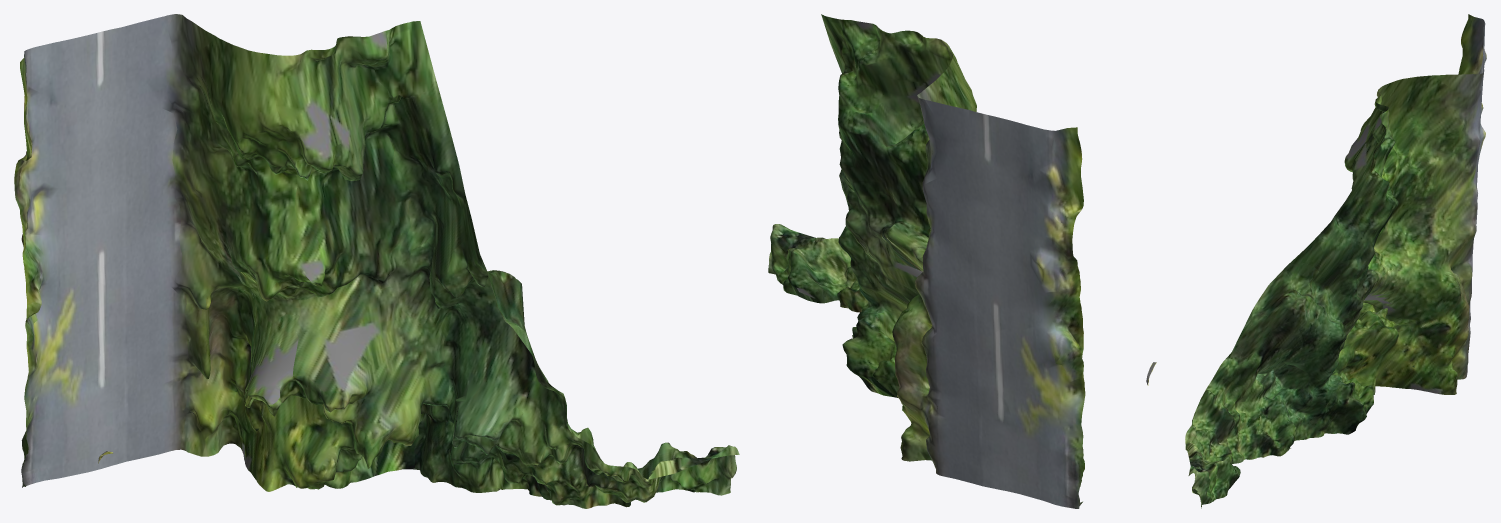
The model's file is Tile_+012_+032.fbx.
3 renders of one model, left to right at view 1: azimuth 30°, elevation 25°; view 2: azimuth 150°, elevation 25°; view 3: azimuth 270°, elevation 25°, orthographic. The views are drawn at different scales.
Visible parts, largest first — view 1: DefaultName; view 2: DefaultName; view 3: DefaultName.
Boxes of the visible parts, x1=… form: DefaultName: x1=14, y1=14, x2=739, y2=508; DefaultName: x1=768, y1=14, x2=1156, y2=508; DefaultName: x1=1185, y1=14, x2=1486, y2=508.
Size of the model in its own units: 22.54 by 17.37 by 15.4.
